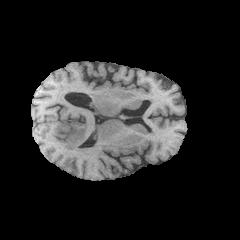glioma: (58, 126, 88, 159)
